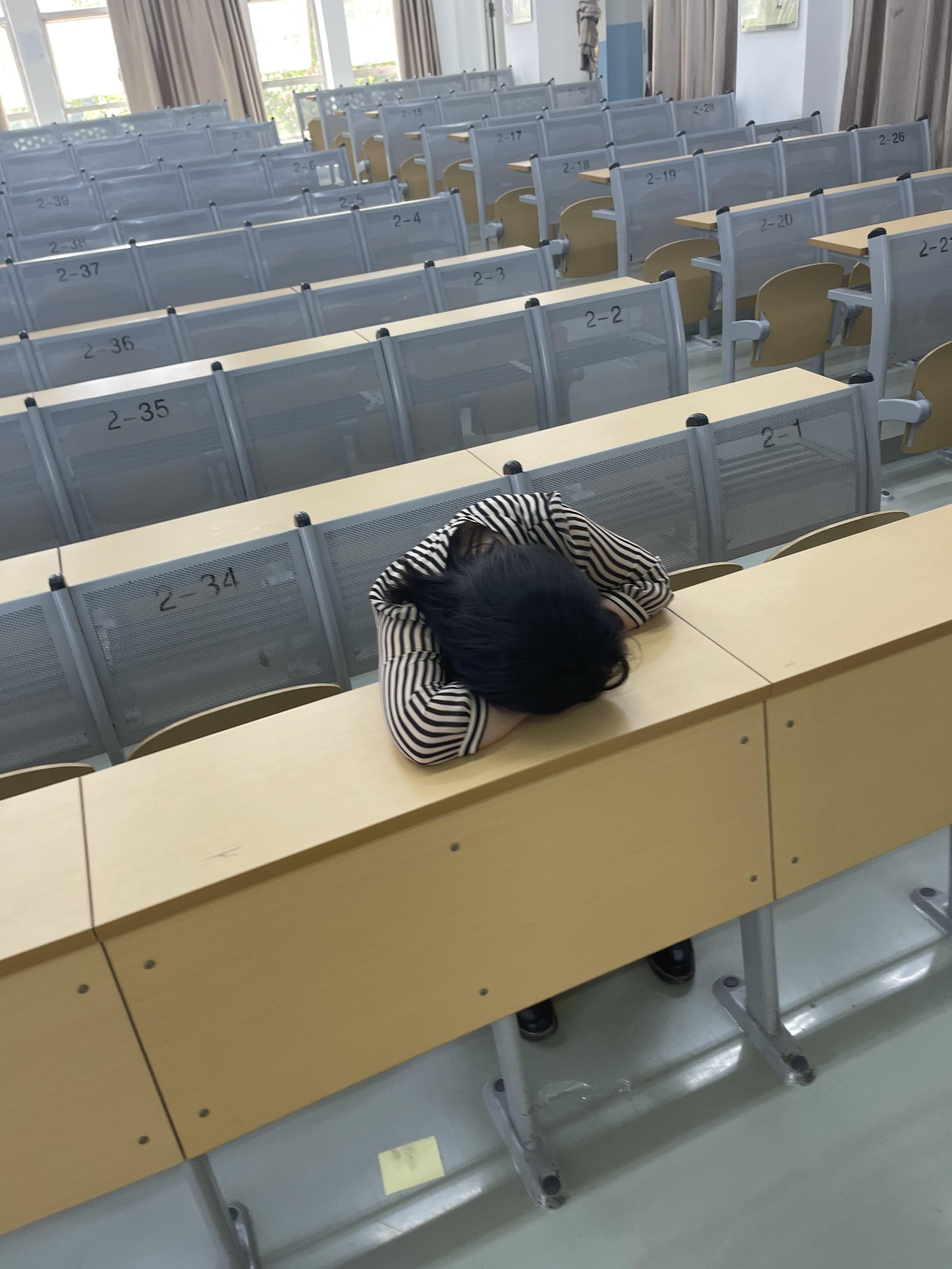sleep: (367, 493, 687, 762)
